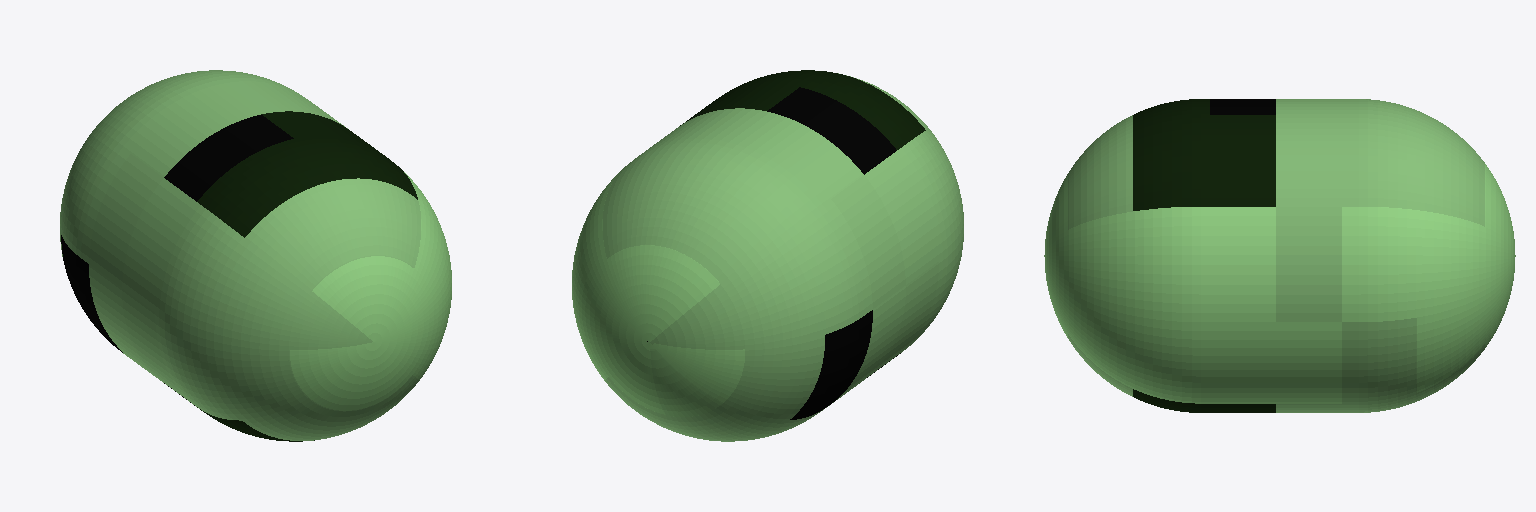
3 renders of one model, left to right at view 1: azimuth 30°, elevation 25°; view 2: azimuth 150°, elevation 25°; view 3: azimuth 270°, elevation 25°, orthographic.
Visible parts, largest first — view 1: capsule; view 2: capsule; view 3: capsule.
Part boxes in pixels (bbox=[...]): capsule: bbox=[60, 70, 451, 441]; capsule: bbox=[572, 70, 963, 441]; capsule: bbox=[1044, 99, 1515, 412].
Bounding box in the file's own units: 2 × 2 × 3.
Materials: 1 (1 with a texture image).